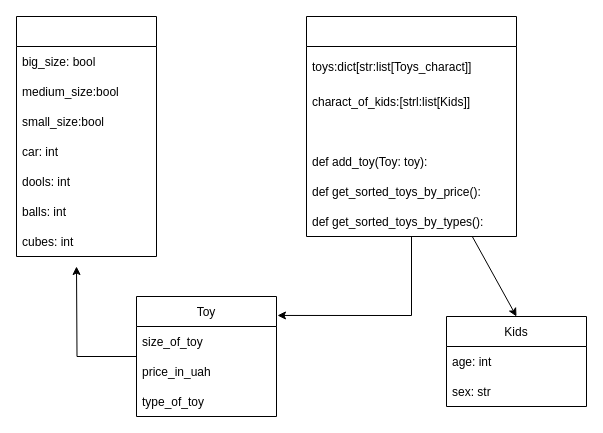
Image size: 603x433. Some labels were removed from this diagram. Each missing label, with the box of its shape:
Game Room: (306, 16, 516, 236)
Toys_charact: (16, 16, 156, 256)
